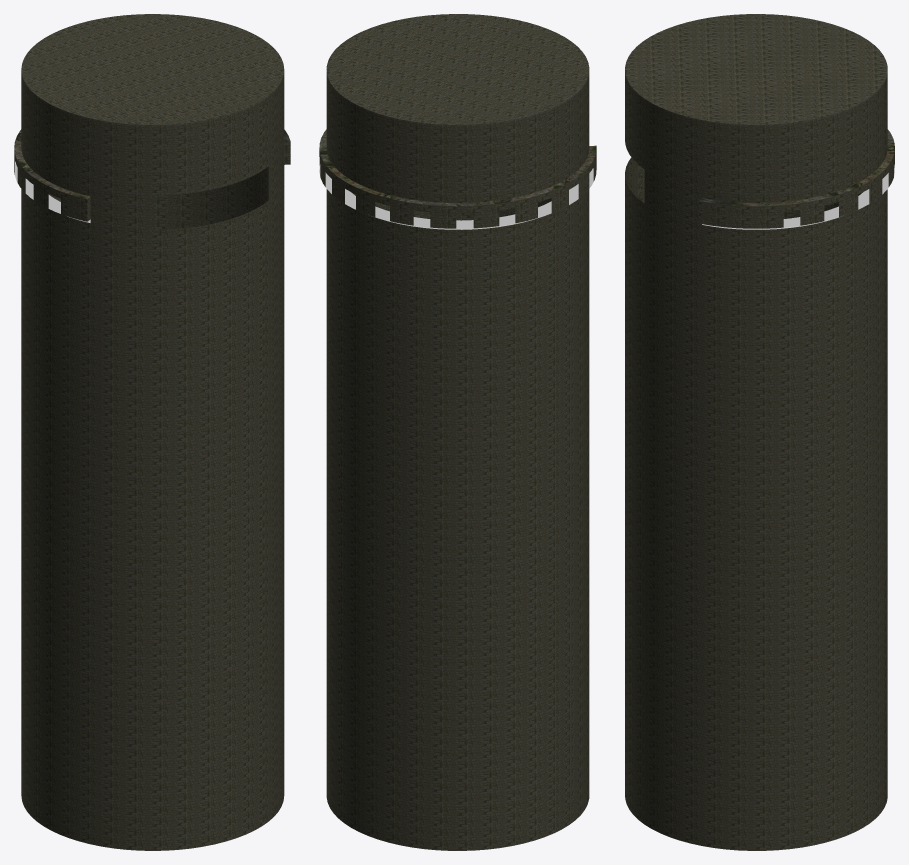
The model's file is Room2.fbx.
3 views of the same model, side by side, from view 1: azimuth 30°, elevation 25°; view 2: azimuth 150°, elevation 25°; view 3: azimuth 270°, elevation 25° (orthographic).
Parts seen in each view (by area): view 1: Room2; view 2: Room2; view 3: Room2.
Part boxes in pixels (x1,y1,x2,y2): Room2: (14,14,290,850); Room2: (319,14,596,850); Room2: (625,14,894,850).
Bounding box in the file's own units: 5157 × 14903 × 5023.
